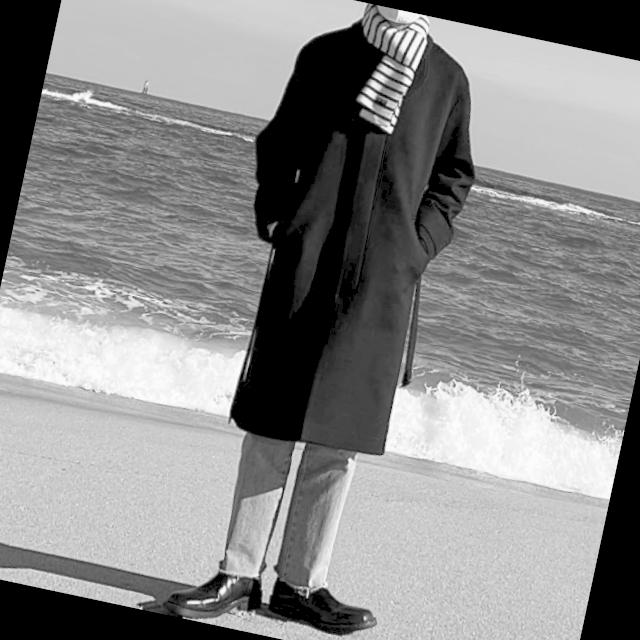coat: (197, 0, 500, 467)
denimpants: (215, 428, 358, 593)
